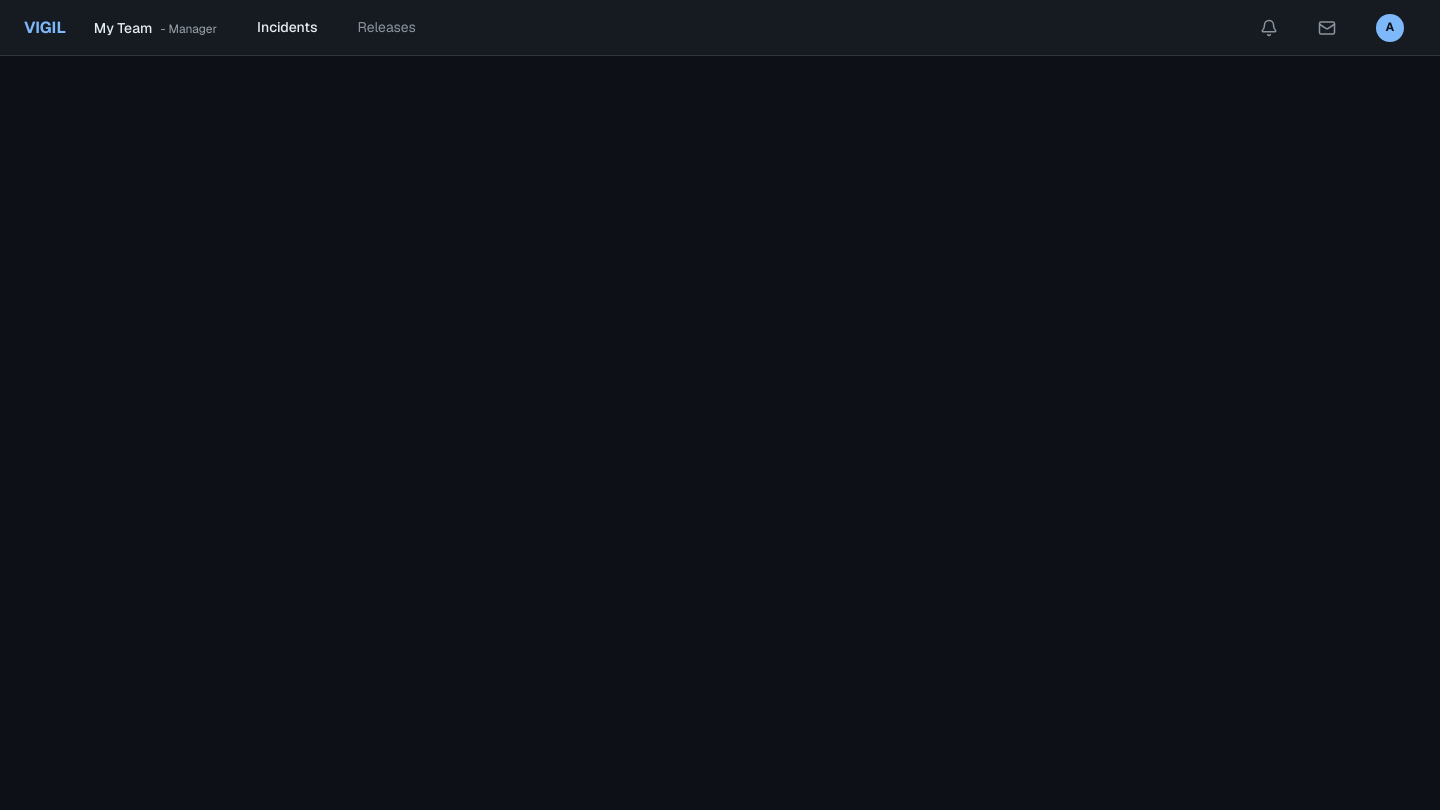
Test: Navbar › opens the join team dialog from the team dropdown
Click the text "My Team" at point(123, 28), box [94,20,152,34]
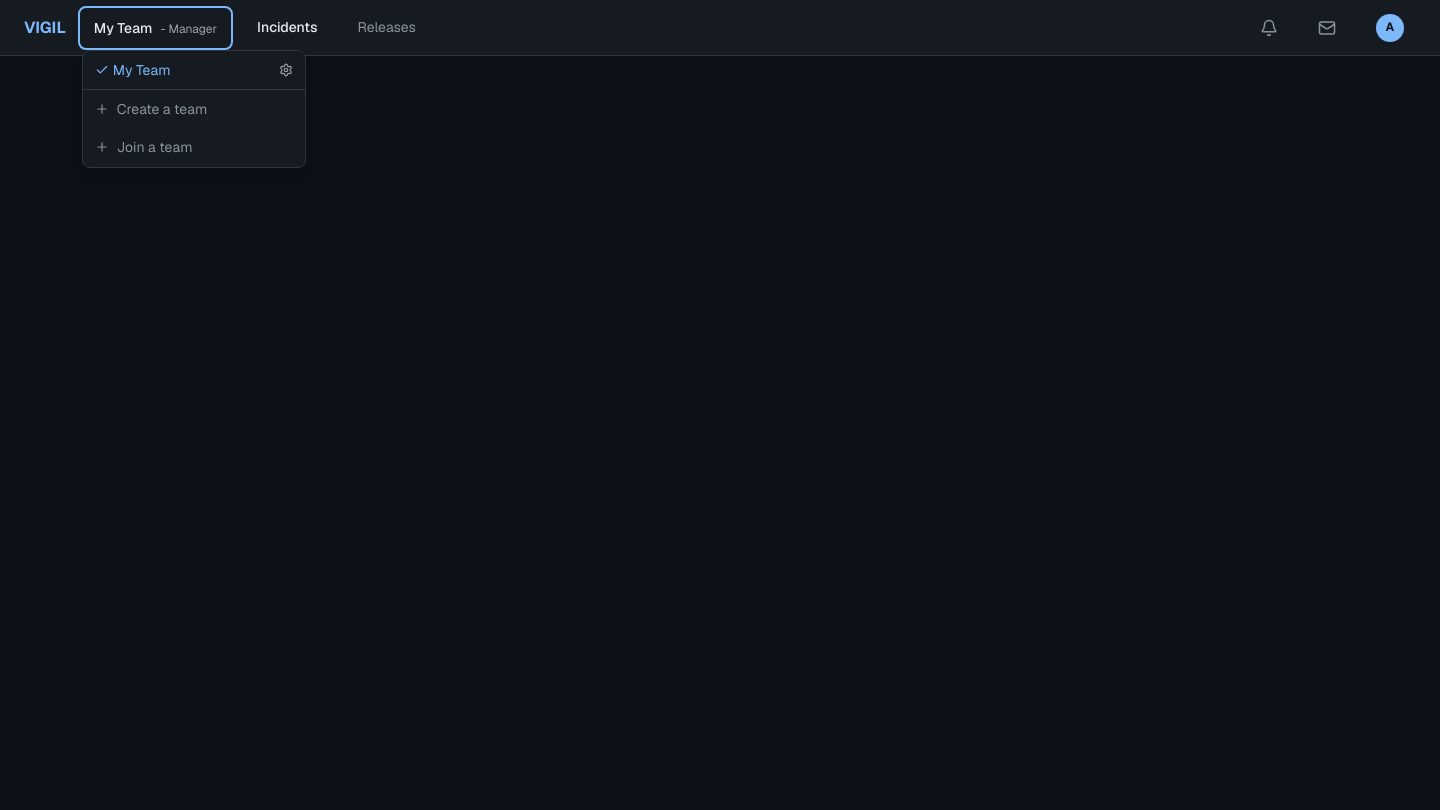
Click the button "Join a team" at point(194, 148), box [83,128,305,167]
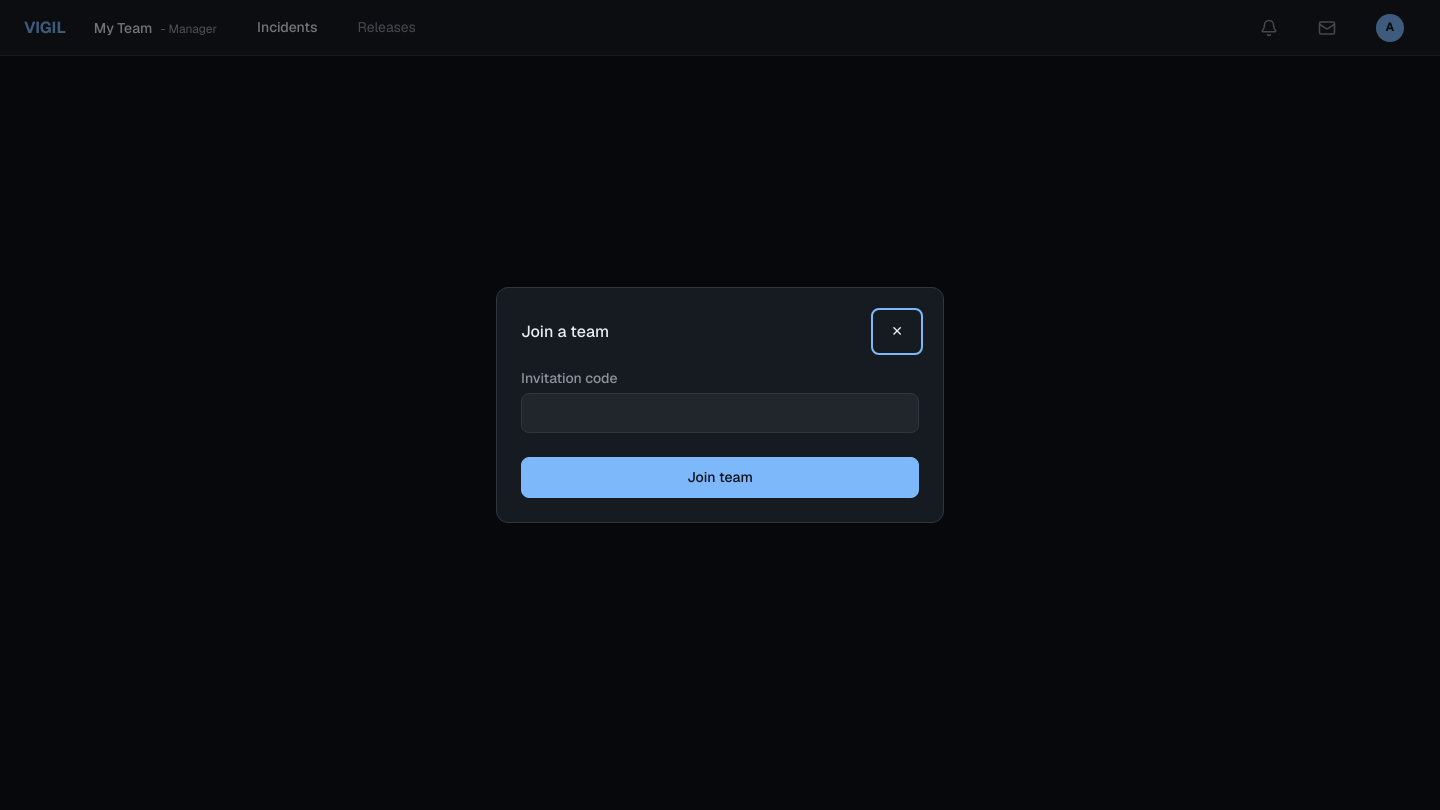
Expected: the field labelled "Invitation code" is shown, [521,393,919,433]
